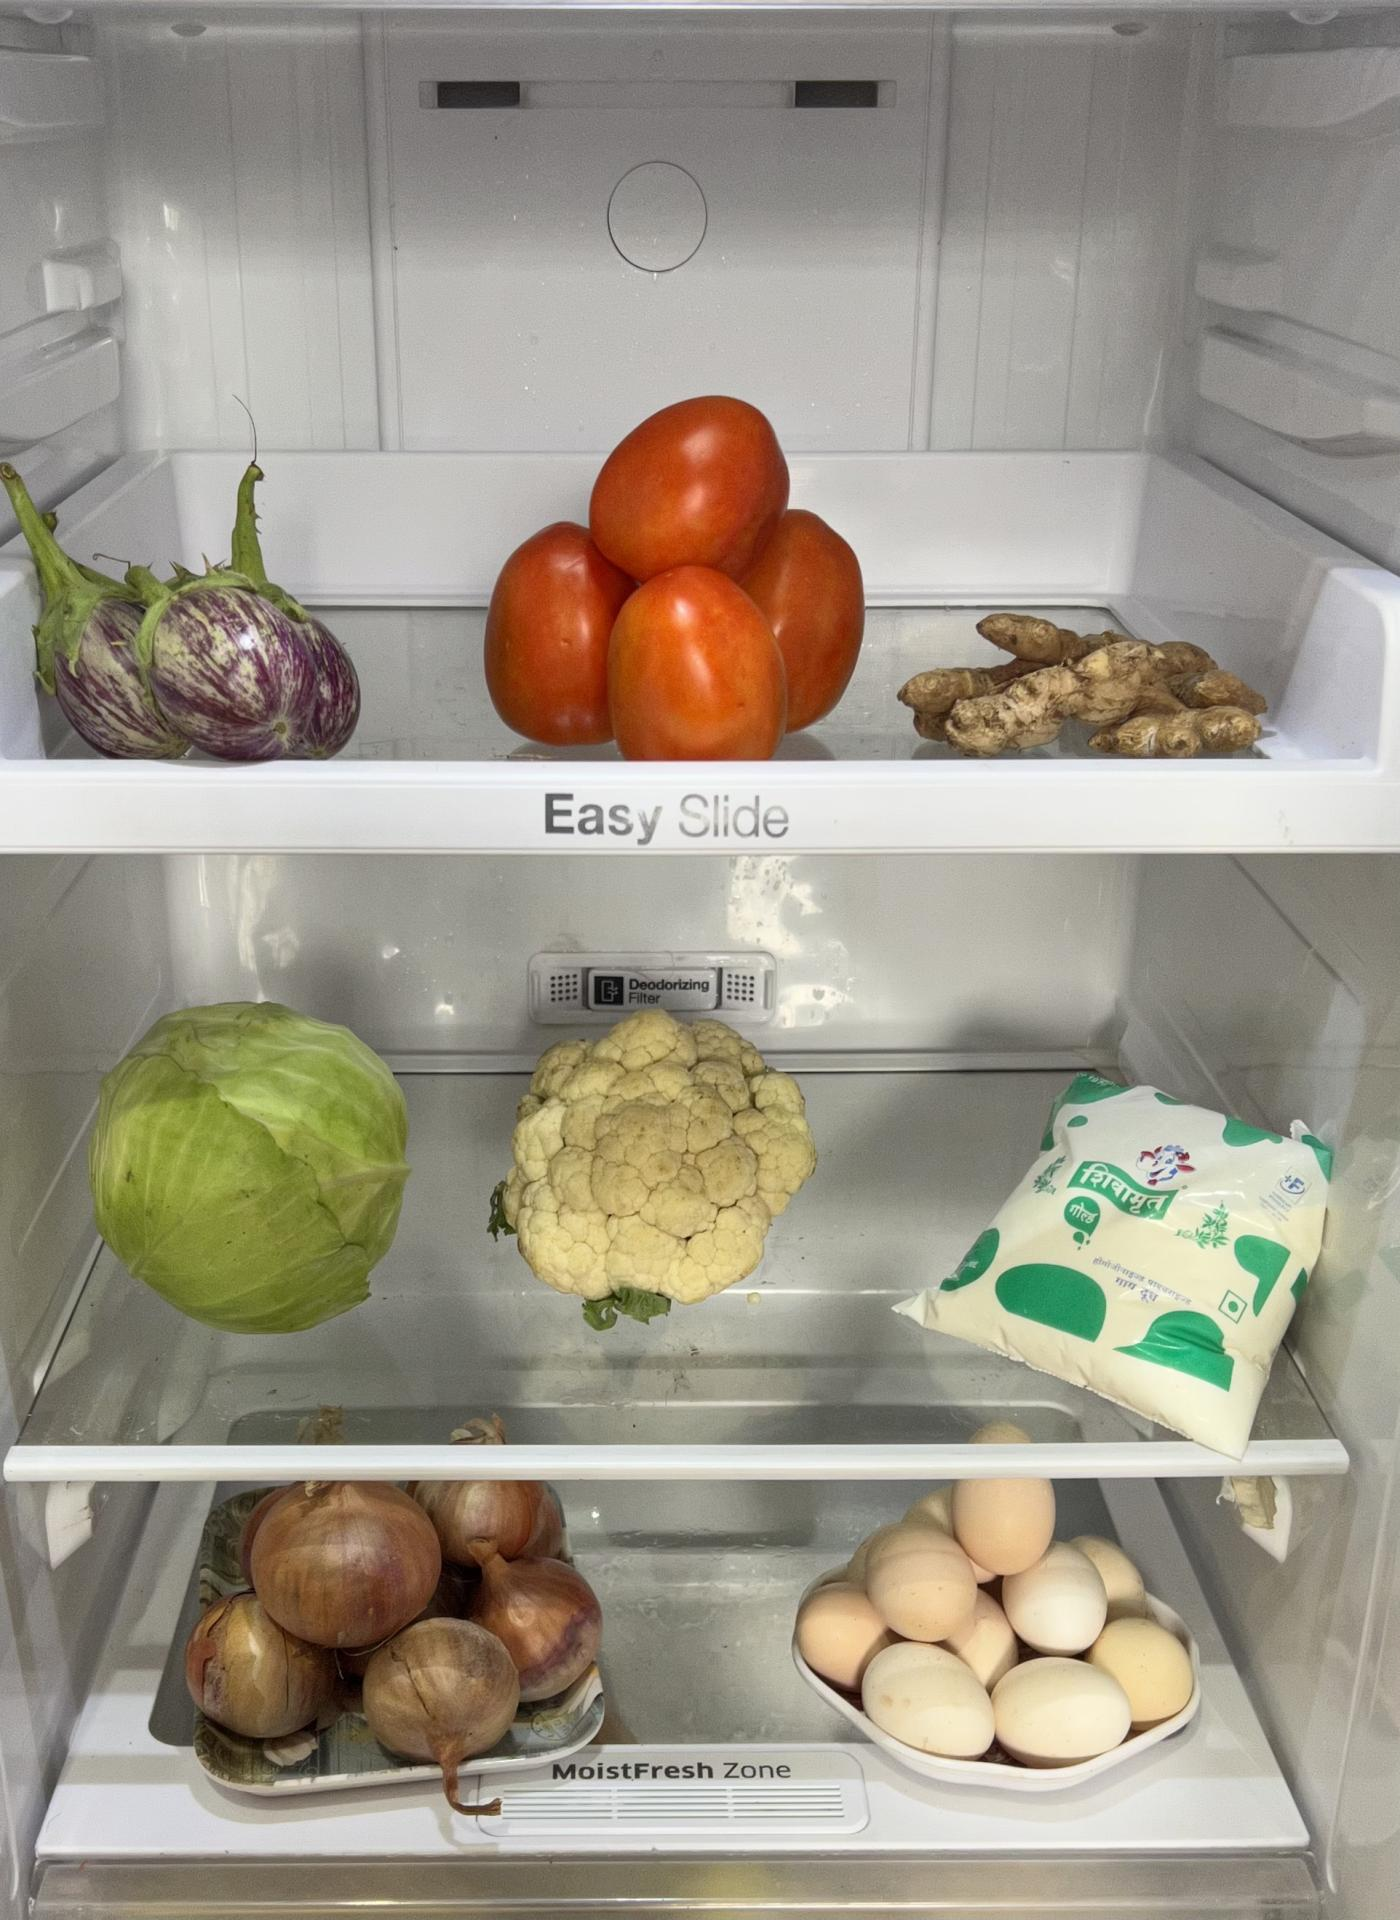cabbage: (88, 996, 414, 1337)
cauliflower: (496, 1020, 819, 1304)
egg: (795, 1468, 1197, 1763)
ginger: (901, 599, 1281, 759)
milk: (892, 1079, 1333, 1433)
onion: (183, 1479, 605, 1750)
tomato: (482, 391, 862, 759)
